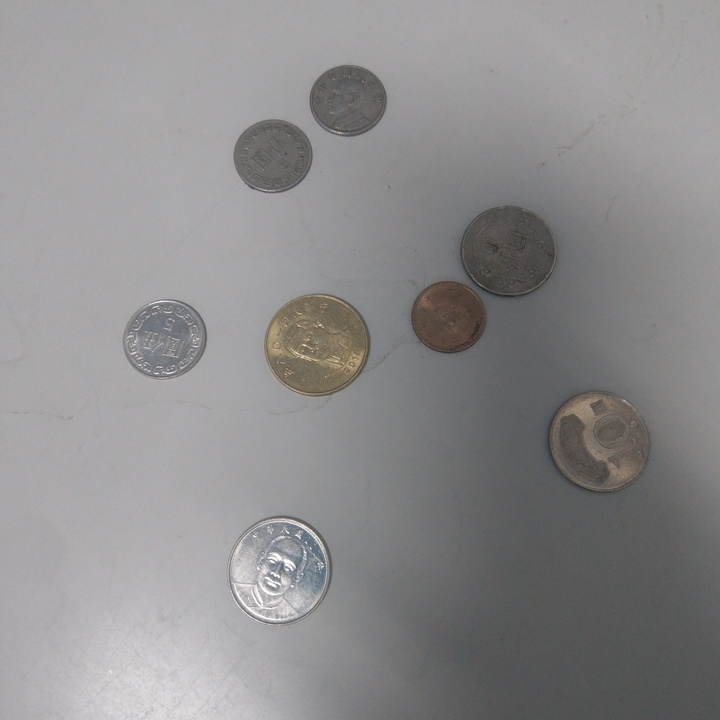1 dollar: (409, 282, 487, 360)
10 dollar: (226, 519, 339, 627), (545, 389, 654, 498), (459, 205, 561, 298)
5 dollar: (119, 299, 208, 382), (232, 120, 314, 196), (308, 65, 389, 139)
50 dollar: (265, 293, 374, 397)
